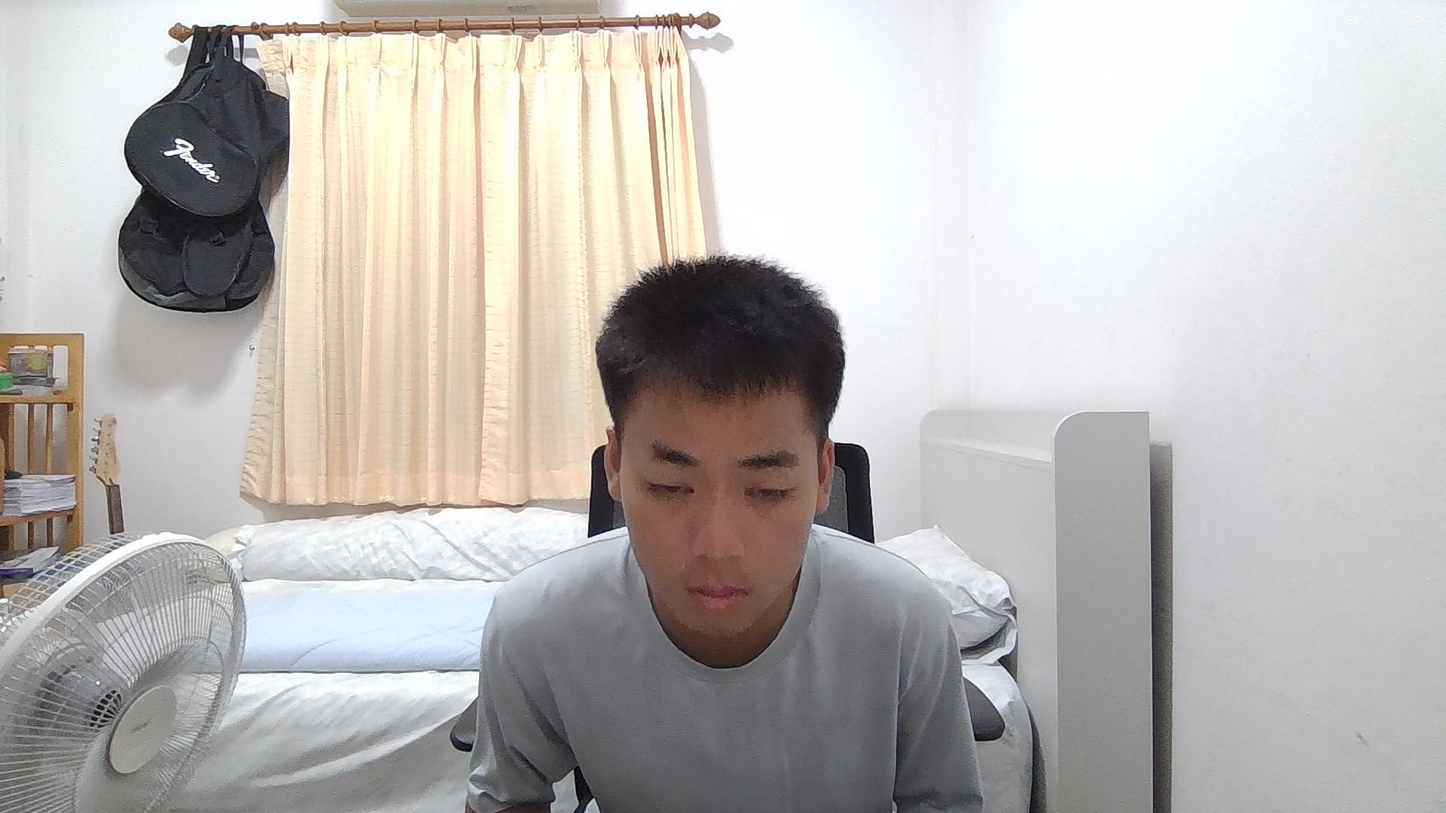BadPosture: (465, 254, 983, 812)
